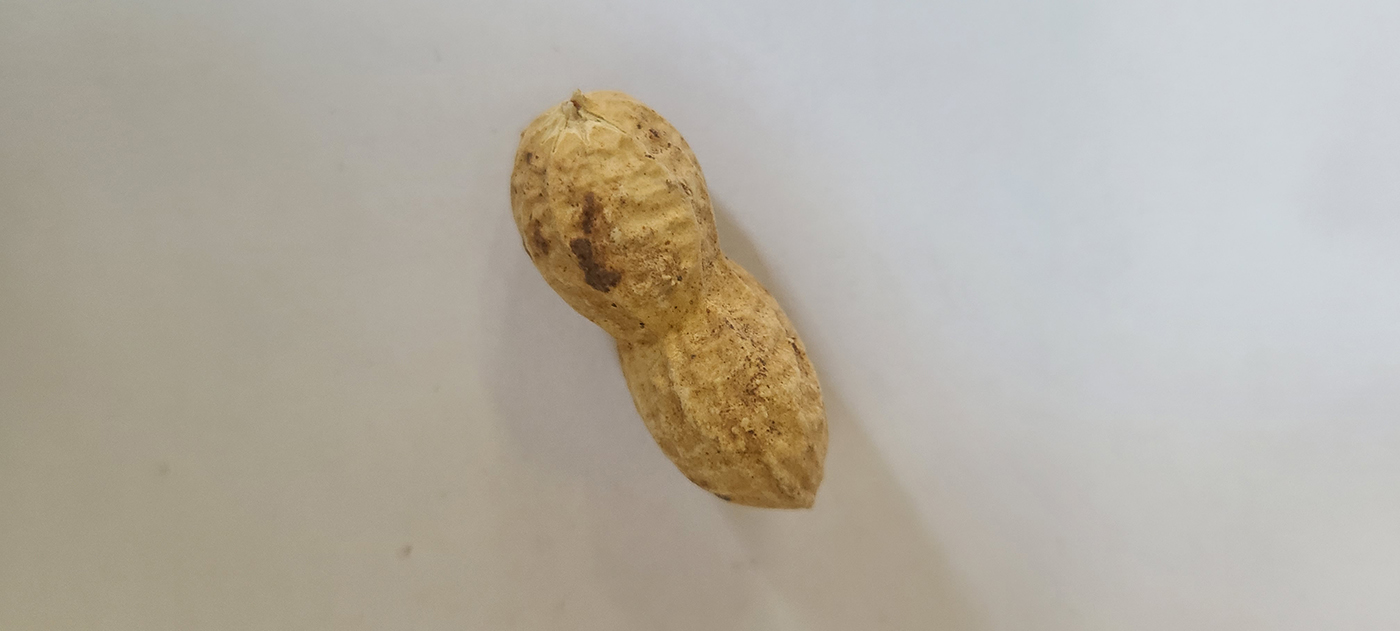h: (508, 84, 829, 508)
